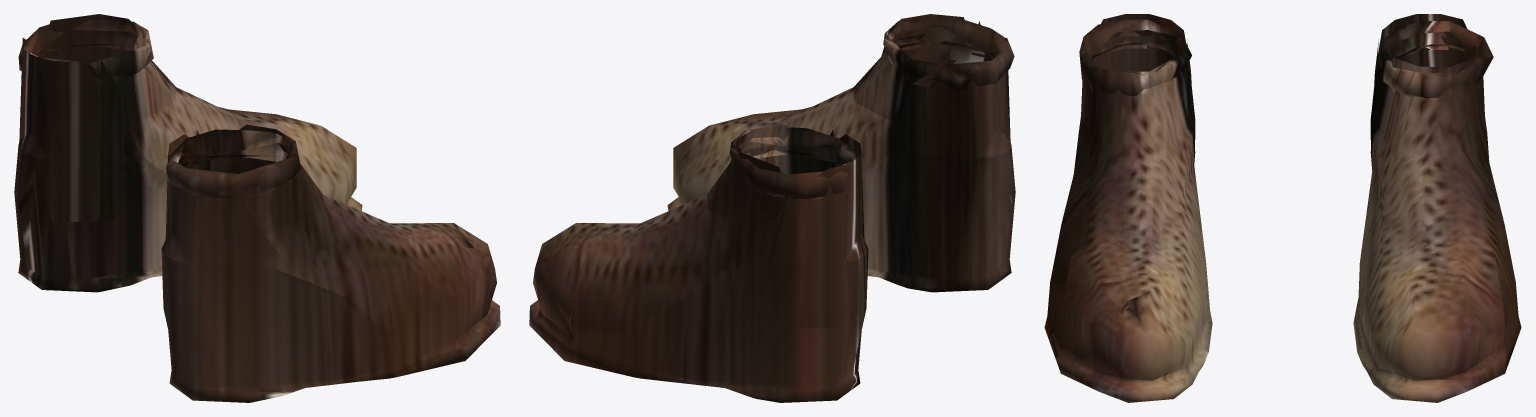
File: bootsold.glb
3 views of the same model, side by side, from view 1: azimuth 30°, elevation 25°; view 2: azimuth 150°, elevation 25°; view 3: azimuth 270°, elevation 25° (orthographic).
Visible parts, largest first — view 1: boots.ms3d.mo; view 2: boots.ms3d.mo; view 3: boots.ms3d.mo.
Part boxes in pixels (bbox=[...]): boots.ms3d.mo: bbox=[14, 14, 500, 402]; boots.ms3d.mo: bbox=[529, 14, 1015, 402]; boots.ms3d.mo: bbox=[1044, 14, 1521, 402].
Bounding box in the file's own units: 3.36 × 2.25 × 4.12.
Materials: 1 (1 with a texture image).
